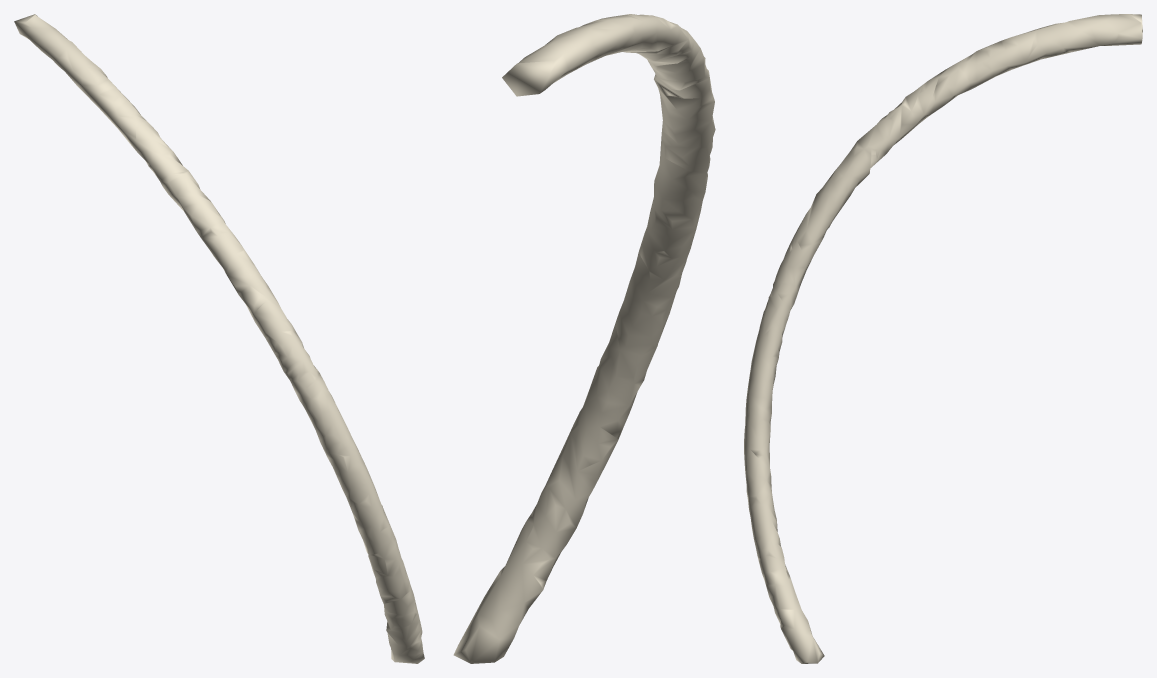
Rendered from rib_12_l.glb.
3 views of the same model, side by side, from view 1: azimuth 30°, elevation 25°; view 2: azimuth 150°, elevation 25°; view 3: azimuth 270°, elevation 25° (orthographic). The views are drawn at different scales.
Parts seen in each view (by area): view 1: geometry_0; view 2: geometry_0; view 3: geometry_0.
Boxes of the visible parts, left/top/right/bottom form: geometry_0: left=14, top=14, right=424, bottom=663; geometry_0: left=453, top=14, right=715, bottom=663; geometry_0: left=744, top=14, right=1142, bottom=663.
Size of the model in its own units: 0.261 by 0.6017 by 0.3999.
